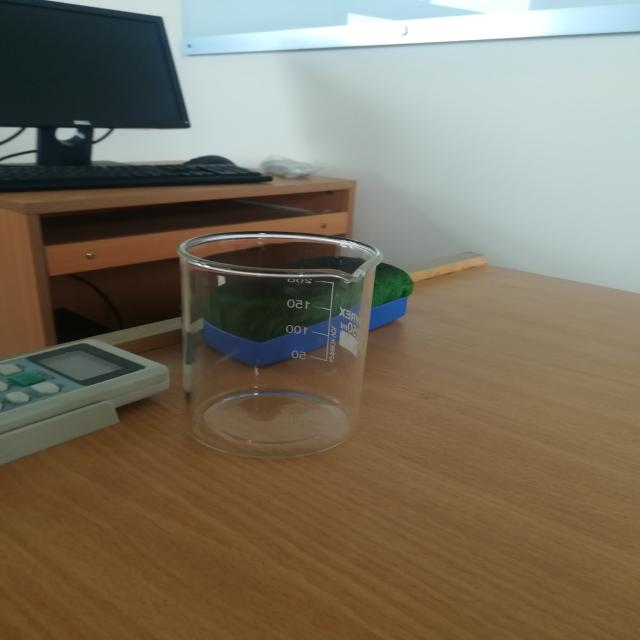Beaker: (142, 202, 402, 479)
